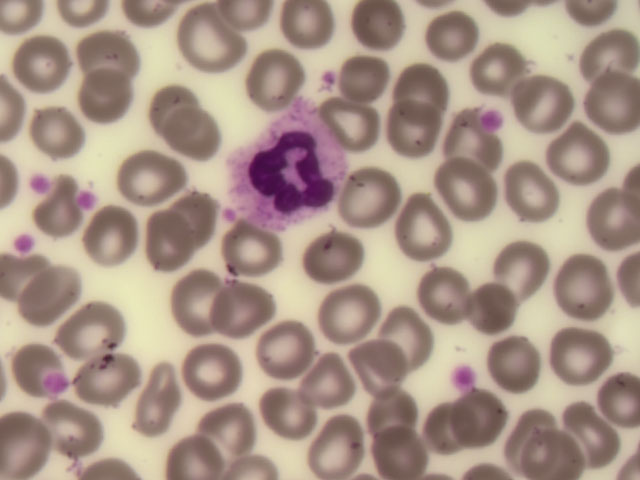Platelets: (452, 365, 479, 391), (26, 172, 52, 197), (9, 231, 35, 255), (315, 69, 340, 91), (484, 107, 504, 128), (45, 375, 68, 391), (81, 190, 97, 206)
RBC: (13, 31, 72, 90), (80, 18, 139, 77), (74, 65, 133, 124), (31, 100, 90, 159), (136, 74, 195, 133), (156, 102, 215, 161), (118, 143, 177, 202), (167, 179, 226, 238), (140, 209, 199, 268), (77, 208, 136, 267), (30, 191, 89, 250), (23, 263, 82, 322), (60, 298, 119, 357), (84, 351, 143, 410), (47, 397, 106, 456), (122, 377, 181, 436), (184, 343, 243, 402), (168, 265, 227, 324), (208, 277, 267, 336), (222, 222, 281, 281), (315, 223, 374, 282), (315, 272, 374, 331), (244, 319, 303, 378), (303, 350, 362, 409), (252, 384, 311, 443), (202, 400, 261, 459), (165, 421, 224, 480), (301, 417, 360, 476), (356, 377, 415, 436), (359, 413, 418, 472), (352, 328, 411, 387), (378, 308, 437, 367), (415, 267, 474, 326), (467, 279, 526, 338), (498, 238, 557, 297), (401, 201, 460, 260), (349, 172, 408, 231), (331, 90, 390, 149), (338, 53, 397, 112), (248, 46, 307, 105), (170, 16, 229, 75), (280, 2, 339, 61), (345, 1, 404, 60), (422, 12, 481, 71), (401, 54, 460, 113), (391, 100, 450, 159), (442, 122, 501, 181), (442, 150, 501, 209), (503, 169, 562, 228), (539, 123, 598, 182), (515, 79, 574, 138), (475, 43, 534, 102), (581, 16, 640, 75), (581, 64, 640, 123), (581, 185, 640, 244), (560, 251, 619, 310), (555, 320, 614, 379), (487, 336, 546, 395), (573, 401, 632, 460), (521, 421, 580, 480), (501, 418, 560, 477), (452, 395, 511, 454), (418, 402, 477, 461), (1, 316, 59, 375), (1, 409, 43, 480)
WBC: (220, 102, 348, 234)
